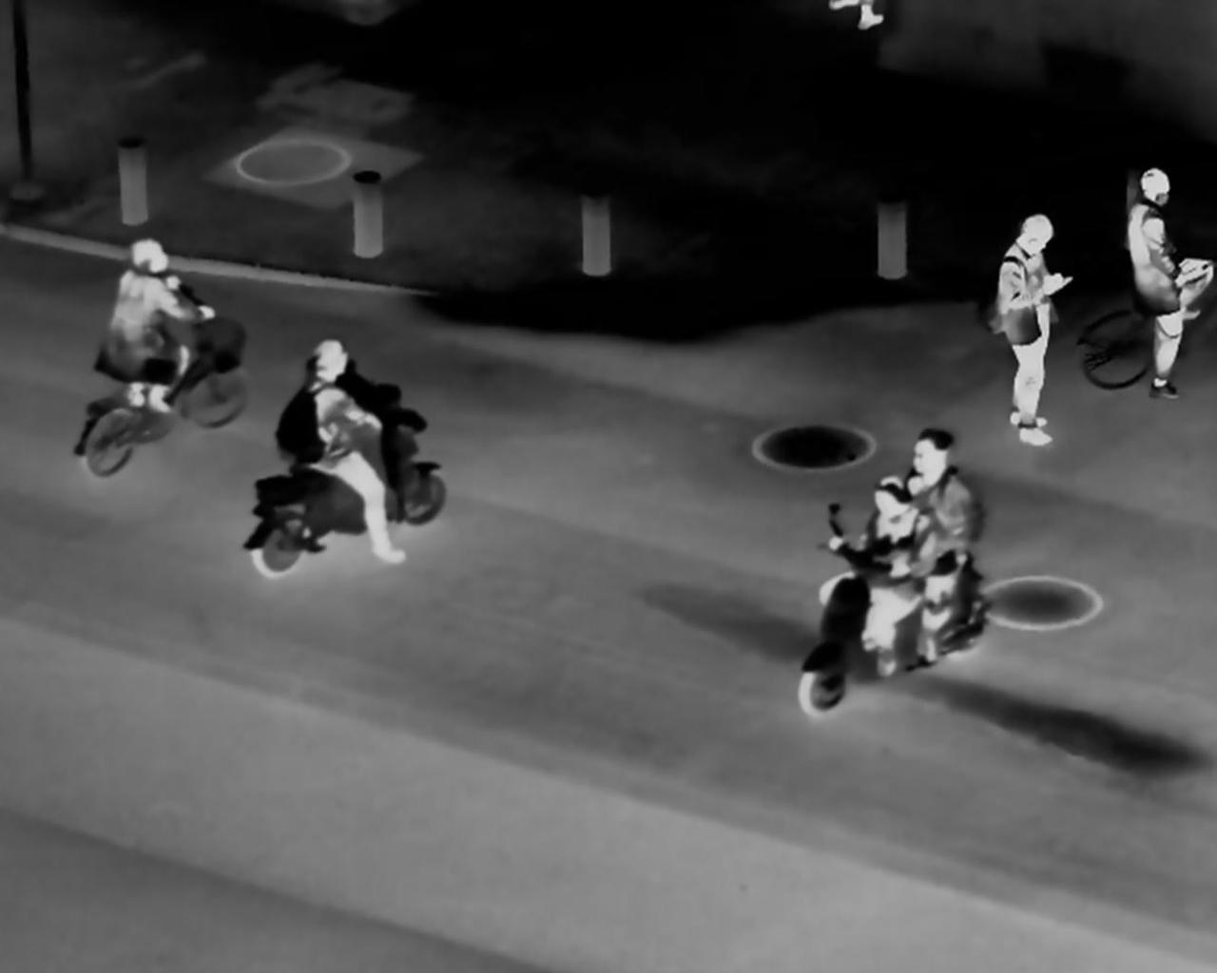person: (270, 331, 400, 568), (1105, 154, 1217, 394), (82, 236, 213, 432), (984, 204, 1074, 449), (837, 464, 928, 662), (900, 426, 976, 662)
